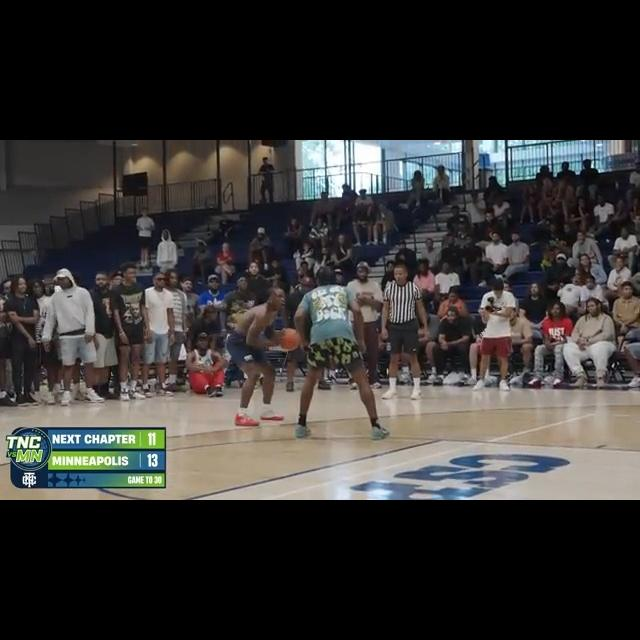basketball: (279, 328, 299, 351)
